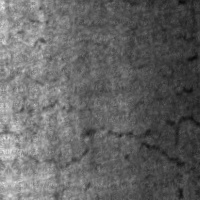crazing: (13, 97, 199, 171), (1, 27, 196, 80)
